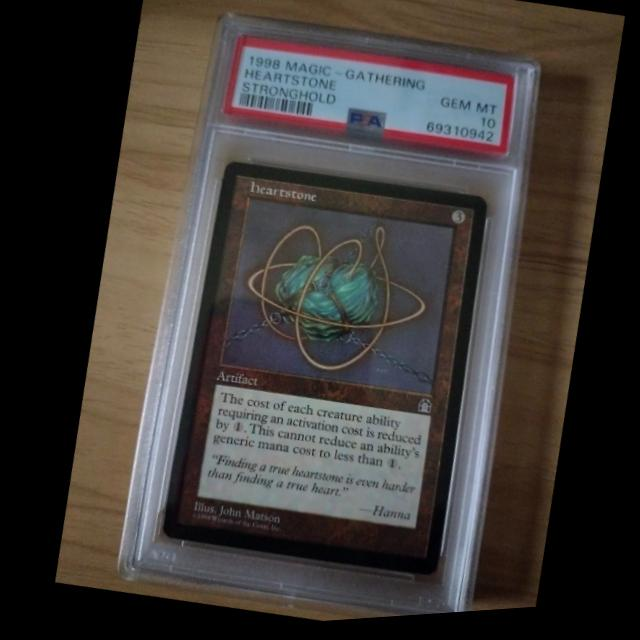card: (151, 161, 486, 584)
psa_label: (217, 35, 514, 163)
psa_slab: (105, 11, 541, 622)
